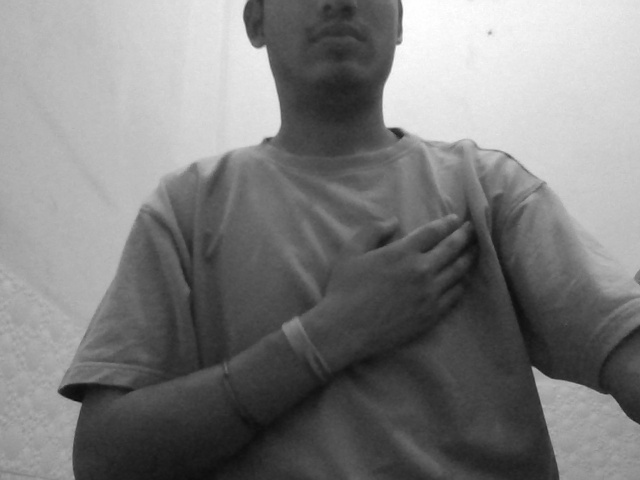Sorry: (310, 202, 513, 387)
